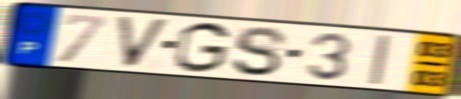3: (305, 31, 354, 82)
7: (61, 12, 110, 65)
G: (172, 20, 233, 75)
I: (367, 33, 393, 87)
S: (230, 24, 291, 79)
V: (114, 14, 173, 71)
